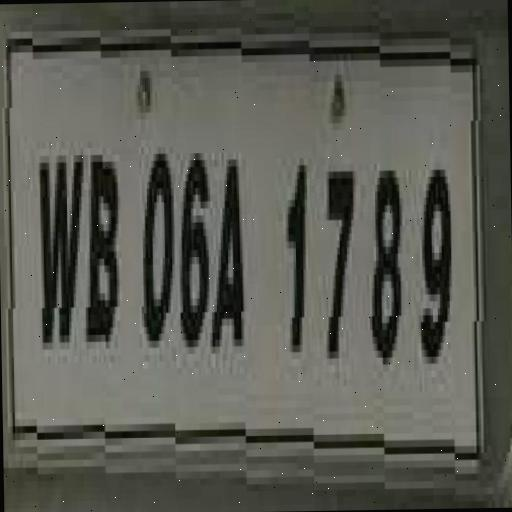number plate: (0, 17, 491, 461)
